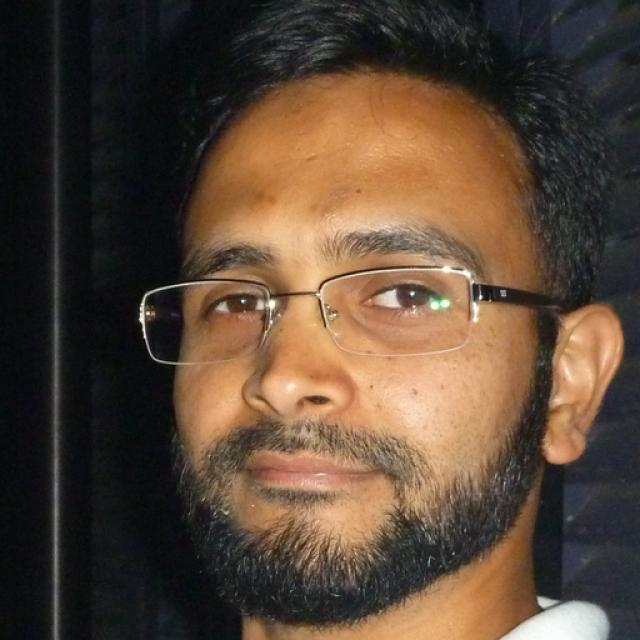neutral: (171, 62, 543, 626)
